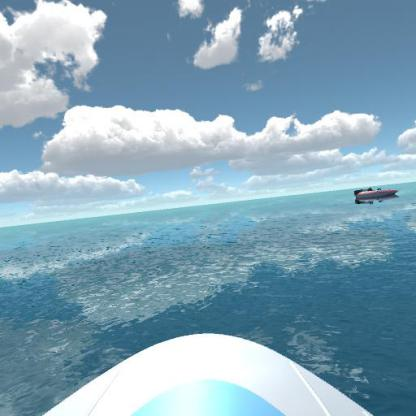usv3: (352, 179, 401, 205)
